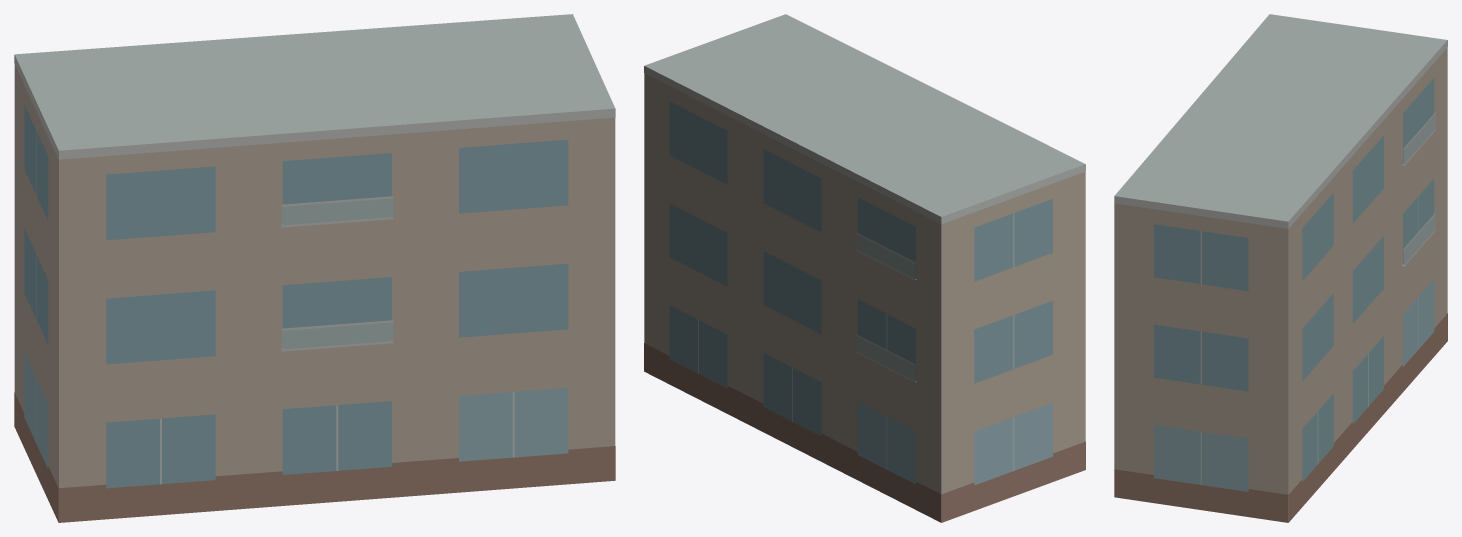
File: survey-upis-32889798.glb
3 renders of one model, left to right at view 1: azimuth 30°, elevation 25°; view 2: azimuth 150°, elevation 25°; view 3: azimuth 270°, elevation 25°, orthographic. The views are drawn at different scales.
Parts seen in each view (by area): view 1: survey-upis-32889798.tmp; view 2: survey-upis-32889798.tmp; view 3: survey-upis-32889798.tmp.
Part boxes in pixels (left/top/right/bottom): survey-upis-32889798.tmp: left=14, top=14, right=615, bottom=522; survey-upis-32889798.tmp: left=644, top=14, right=1085, bottom=522; survey-upis-32889798.tmp: left=1114, top=14, right=1447, bottom=522.
Bounding box in the file's own units: 15.09 × 10.2 × 10.24.
